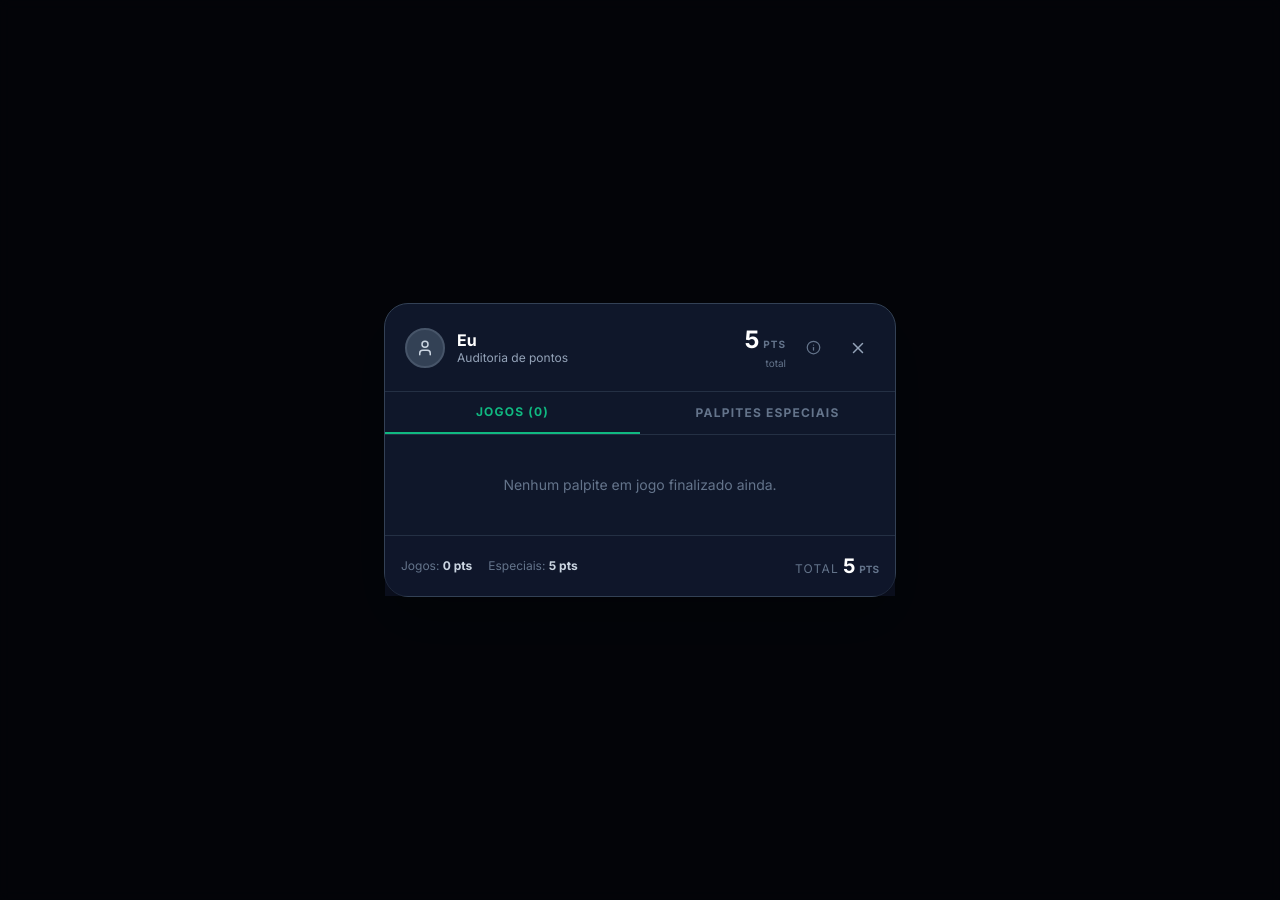
UserAuditModal - Regulamento 2 special predictions accordion › shows all Final qualifiers after semifinals finish
The width and height of the screenshot is (1280, 900).
Click the button "Palpites Especiais": (768, 413) [640,392,895,434]
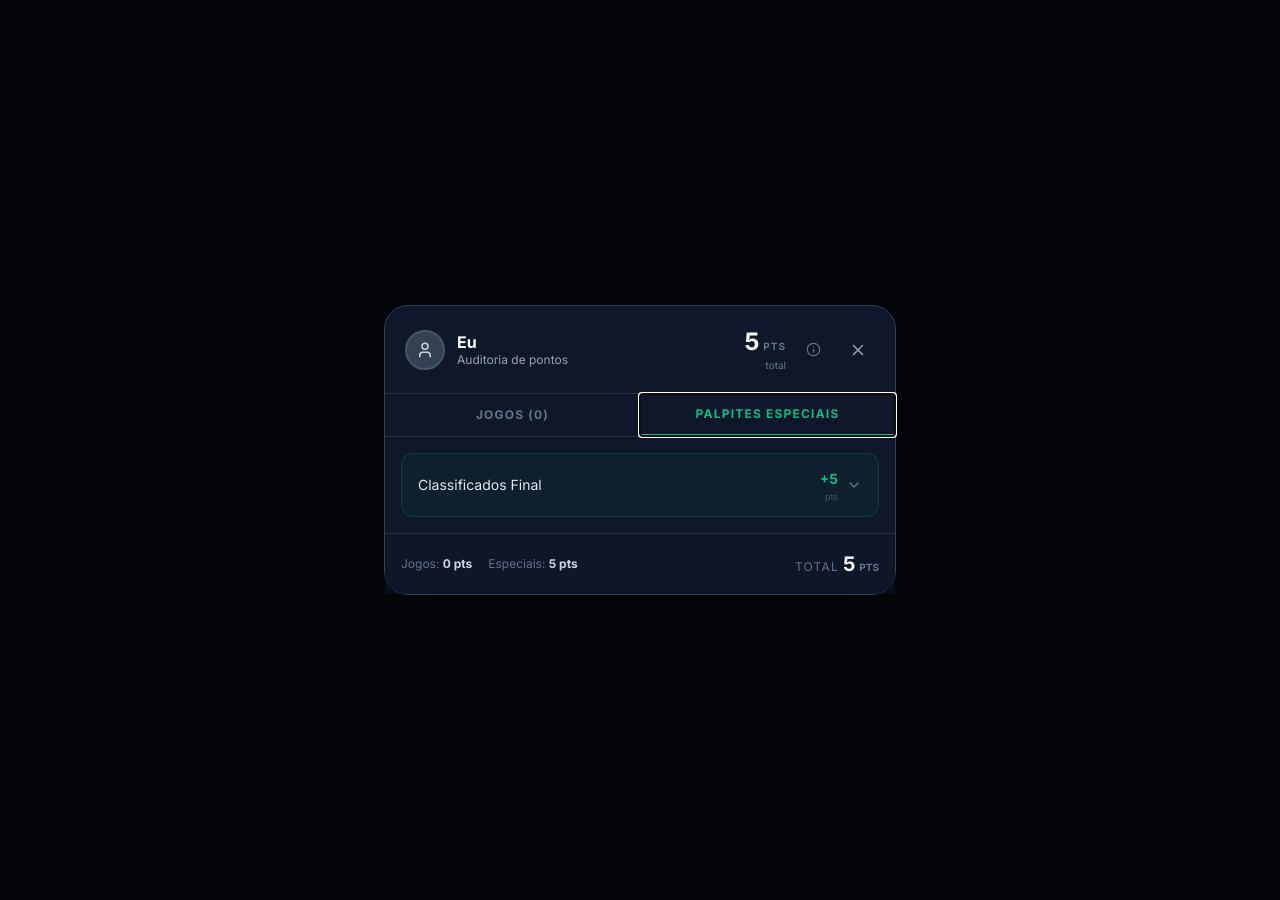
Click the button with test id "special-group-classifications-Final": (480, 484) [402,454,878,516]
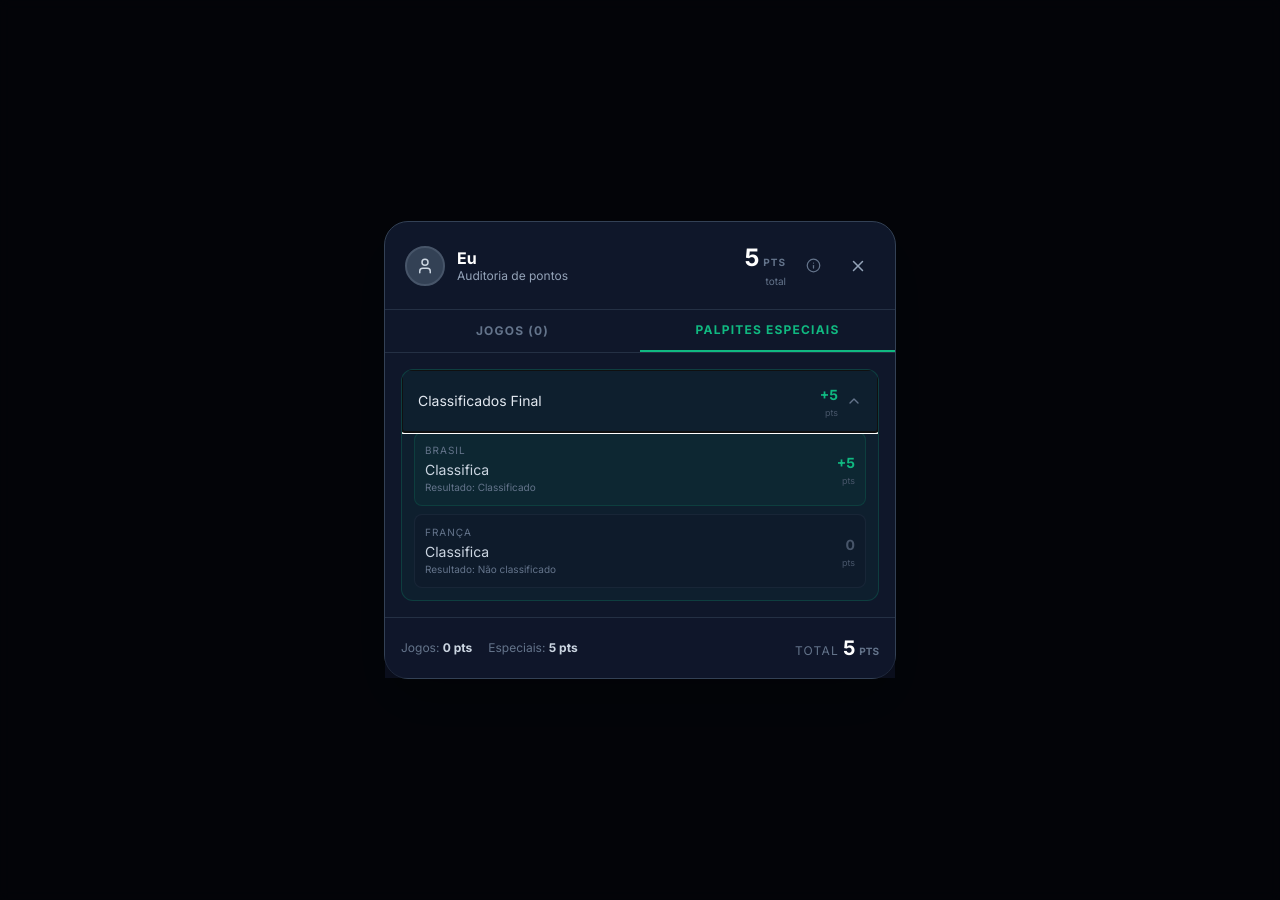
Expected: the text "Brasil" is shown, [425,444,466,456]
Expected: the text "Resultado: Classificado" is shown, [425,481,536,493]
Expected: the text "França" is shown, [425,526,472,538]
